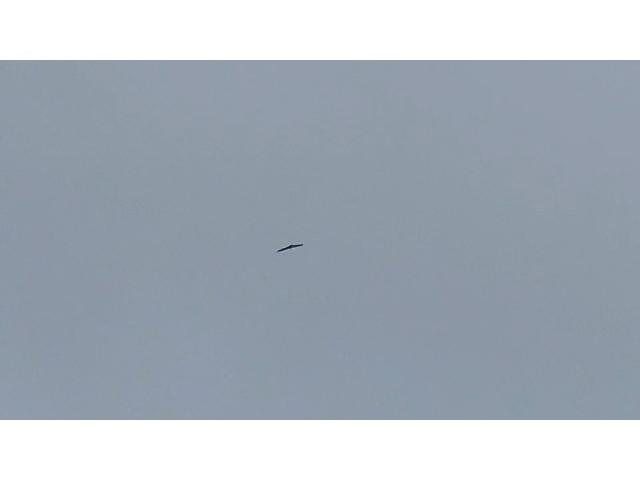Anti-Drone: (276, 243, 304, 253)
